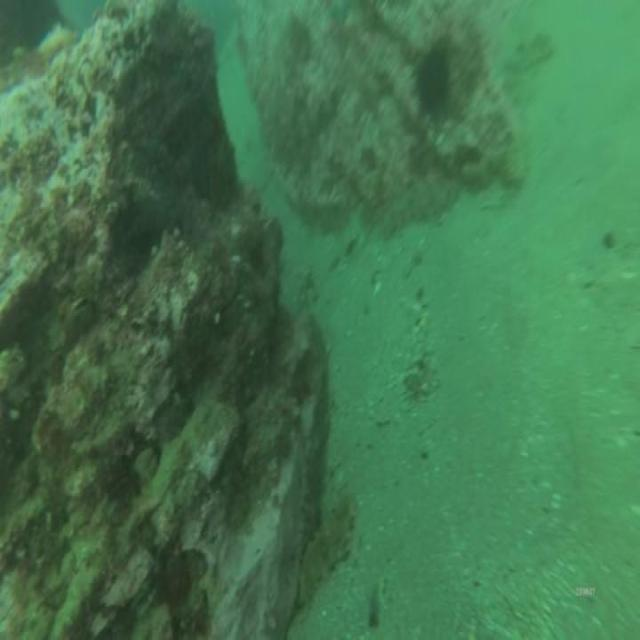echinus: (409, 28, 458, 126)
holothurian: (297, 477, 360, 601), (502, 24, 556, 80)
